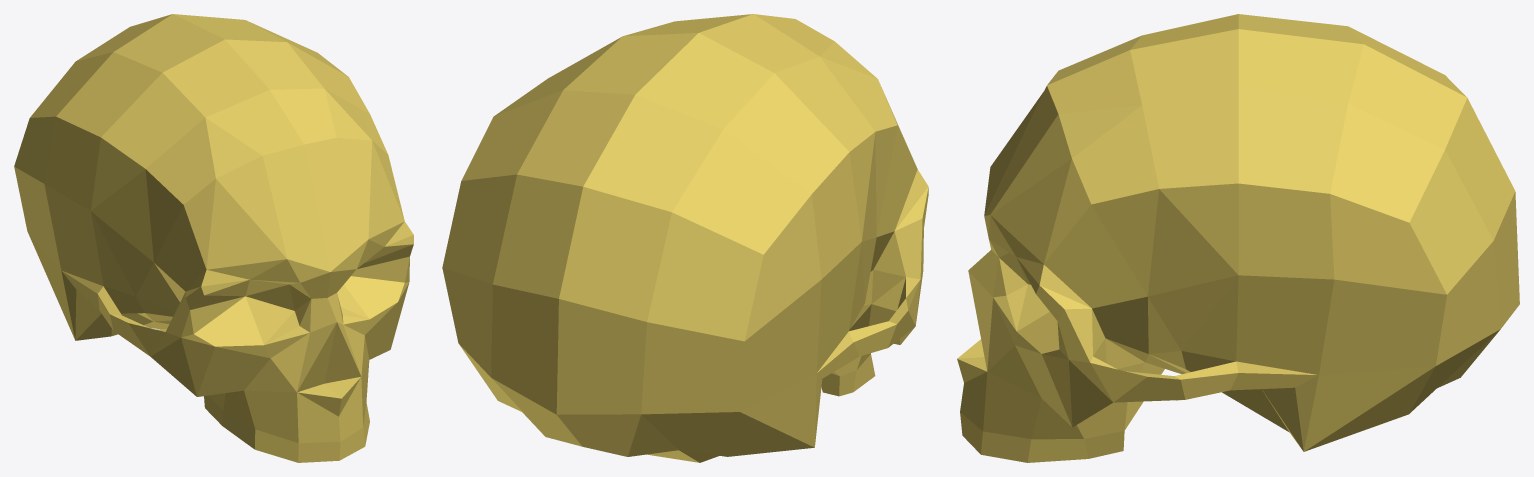
File: Skull.fbx
3 renders of one model, left to right at view 1: azimuth 30°, elevation 25°; view 2: azimuth 150°, elevation 25°; view 3: azimuth 270°, elevation 25°, orthographic. The views are drawn at different scales.
Visible parts, largest first — view 1: Skull; view 2: Skull; view 3: Skull.
Part boxes in pixels (x1,y1,x2,y2): Skull: (14,14,413,462); Skull: (442,14,928,462); Skull: (957,14,1519,462).
Size of the model in its own units: 0.2417 by 0.2768 by 0.3474.
